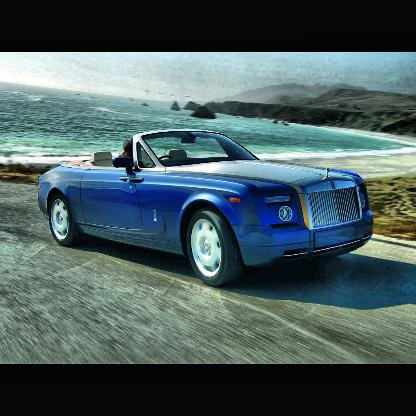Rolls-Royce Phantom Drophead Coupe Convertible 2012: (35, 128, 378, 288)
